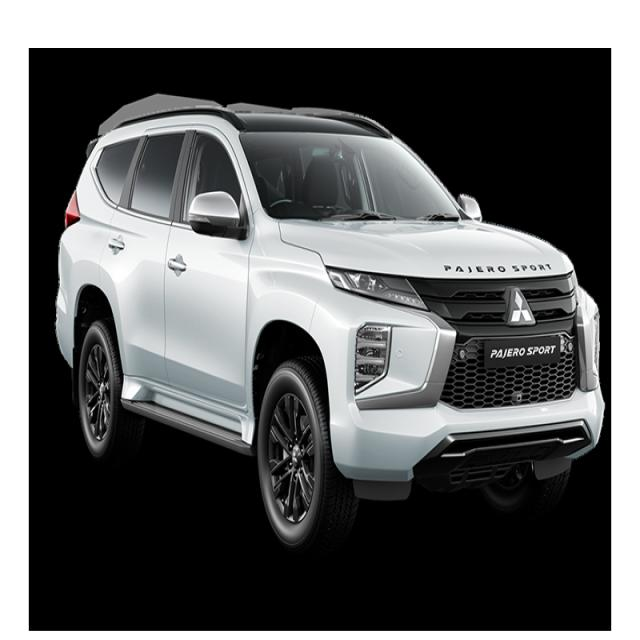light_vehicle: (54, 97, 605, 564)
